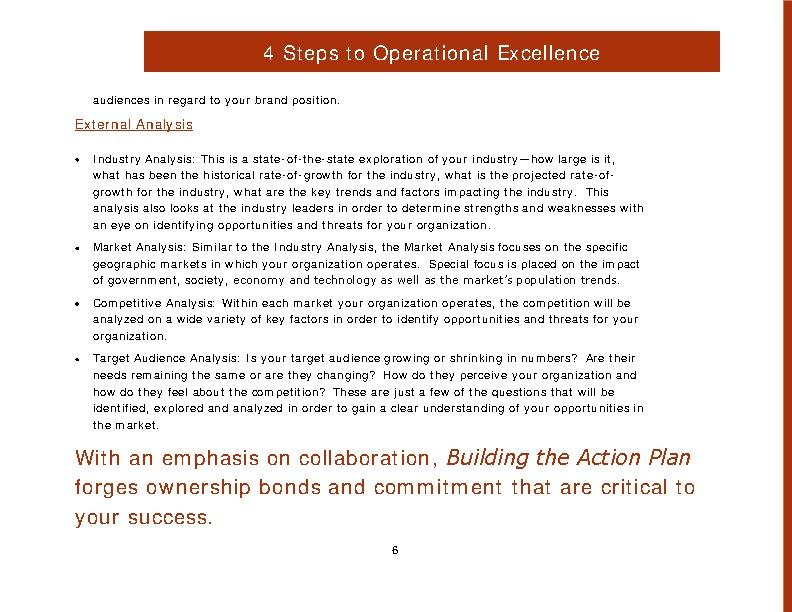paragraph: (61, 83, 726, 552)
title: (251, 33, 612, 72)
